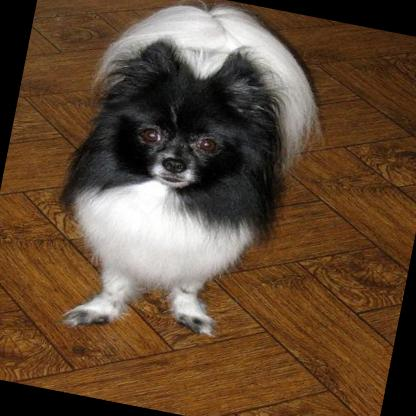Pomeranian: (33, 0, 332, 361)
